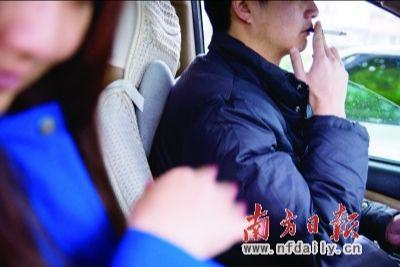Cigarette: (307, 25, 347, 36)
